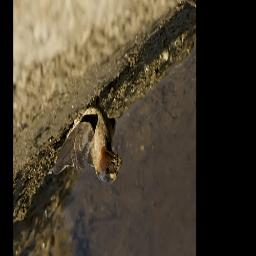Swallow: (51, 101, 121, 185)
